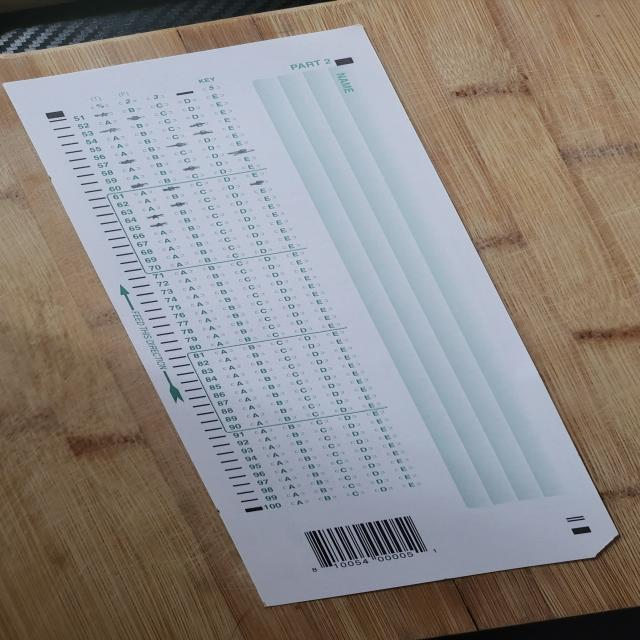scantron_back: (5, 24, 619, 607)
